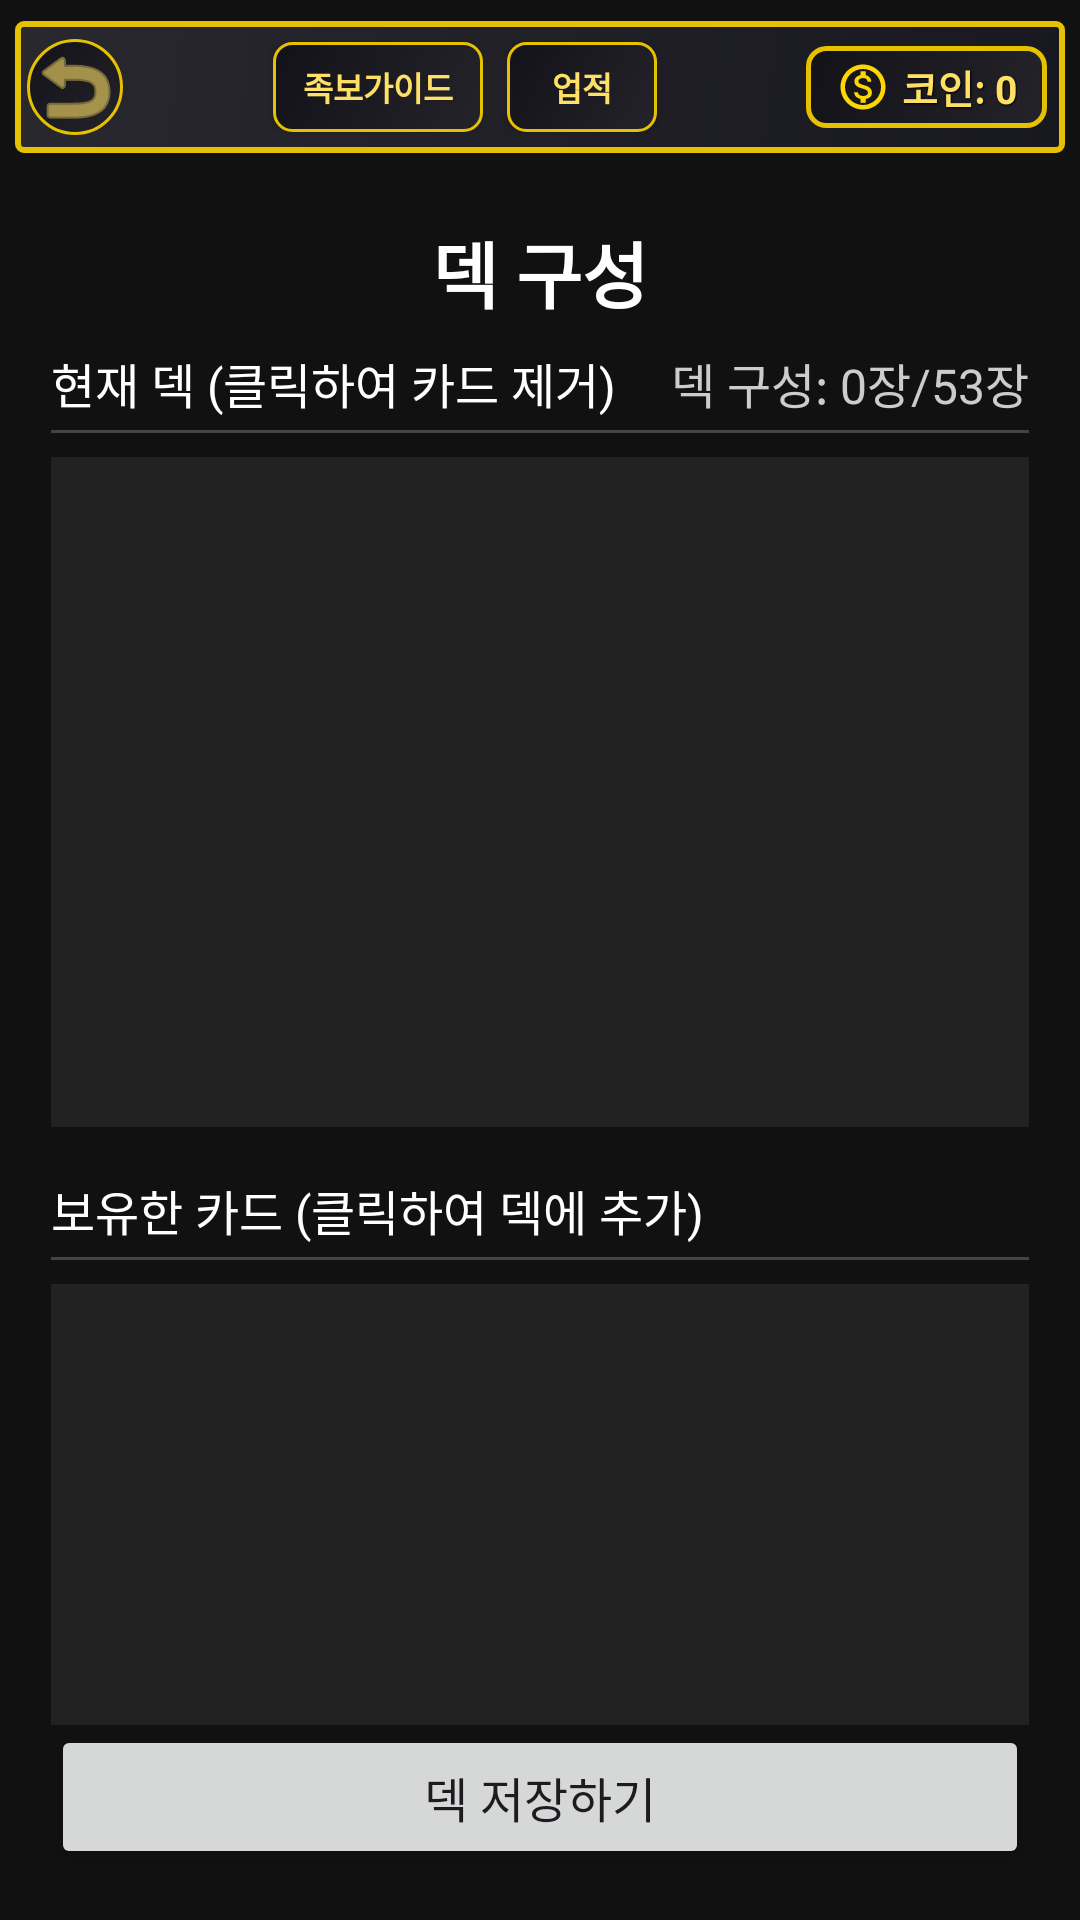

Where to tap for icons on this 1080×1920 app screen, as [x,y]:
뒤로가기: [75,87]
